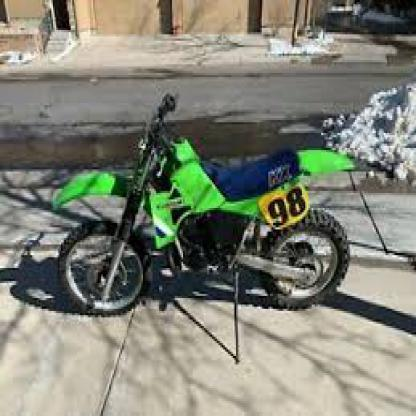Motorcycle: (46, 82, 366, 336)
